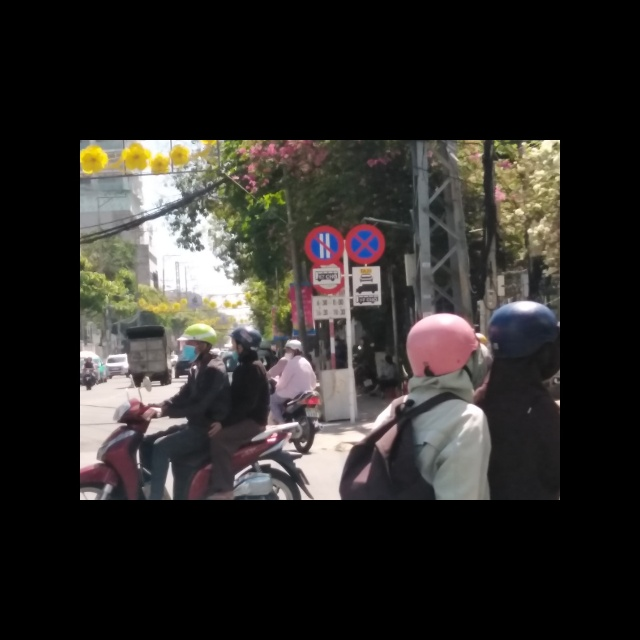Cấm dừng xe và đỗ xe: (345, 224, 386, 265)
Cấm đỗ xe ngày chẵn: (302, 225, 344, 266)
